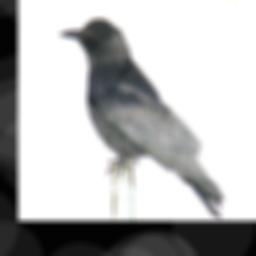Crow: (57, 17, 225, 220)
